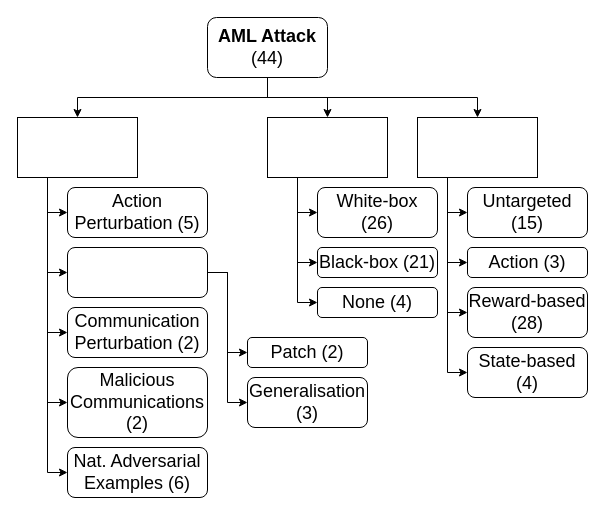
Some shapes in this 605 by 515 pixel diagram are drawn without their labels. Here are the shapes that lost their labels. From the top down, the centre of each, then its label:
point 77,147: Attack Vector
point 327,147: Information
point 477,147: Objective
point 137,272: Observation Perturbation (25)
